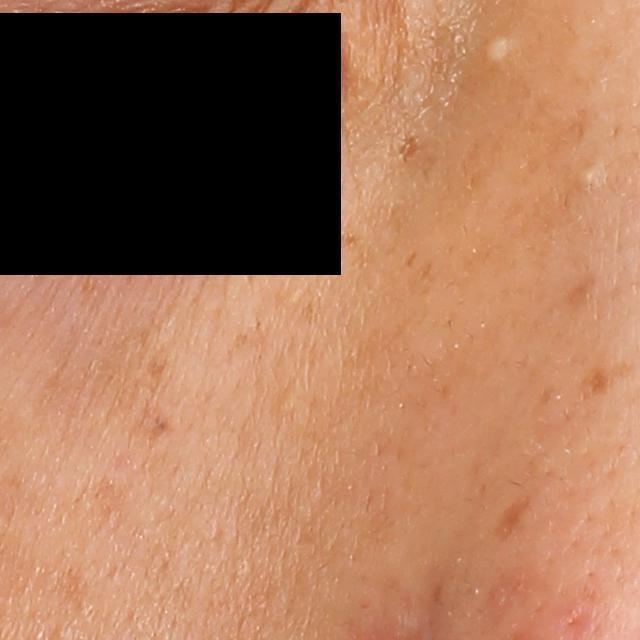comedo: (571, 163, 604, 196)
melasma: (23, 314, 186, 453), (68, 467, 139, 547), (486, 488, 540, 553), (557, 271, 615, 319), (579, 363, 632, 402), (394, 134, 426, 168), (400, 249, 420, 270)
other: (480, 29, 517, 77)
